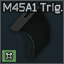M45A1 trigger: (0, 0, 64, 64)
